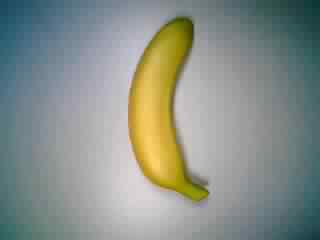banana: (123, 16, 214, 205)
